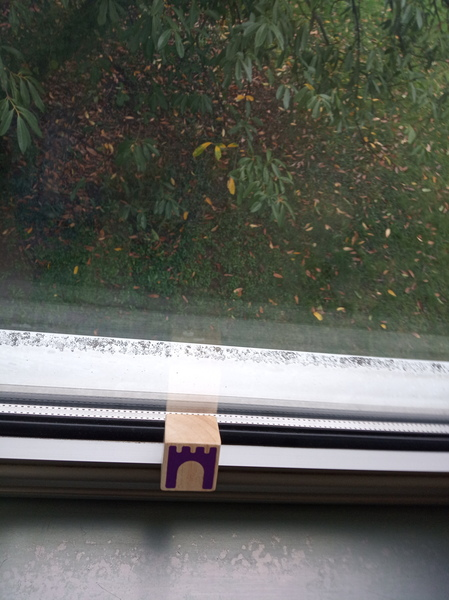violet: (162, 416, 221, 494)
